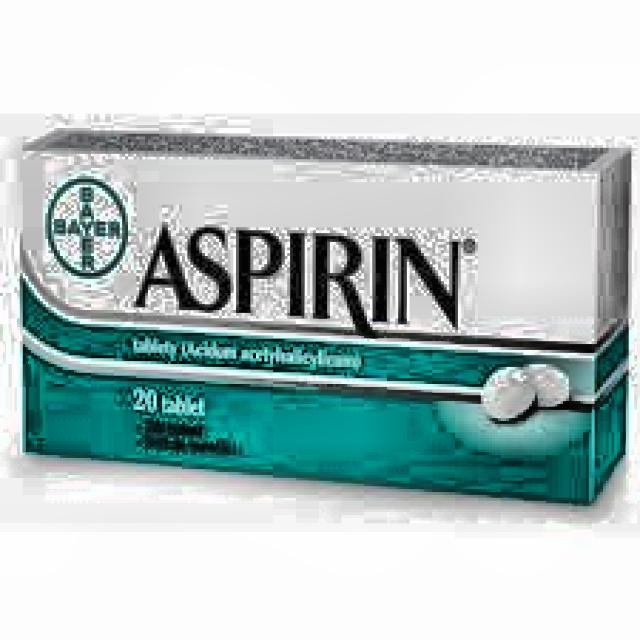Aspirin: (27, 155, 603, 497)
